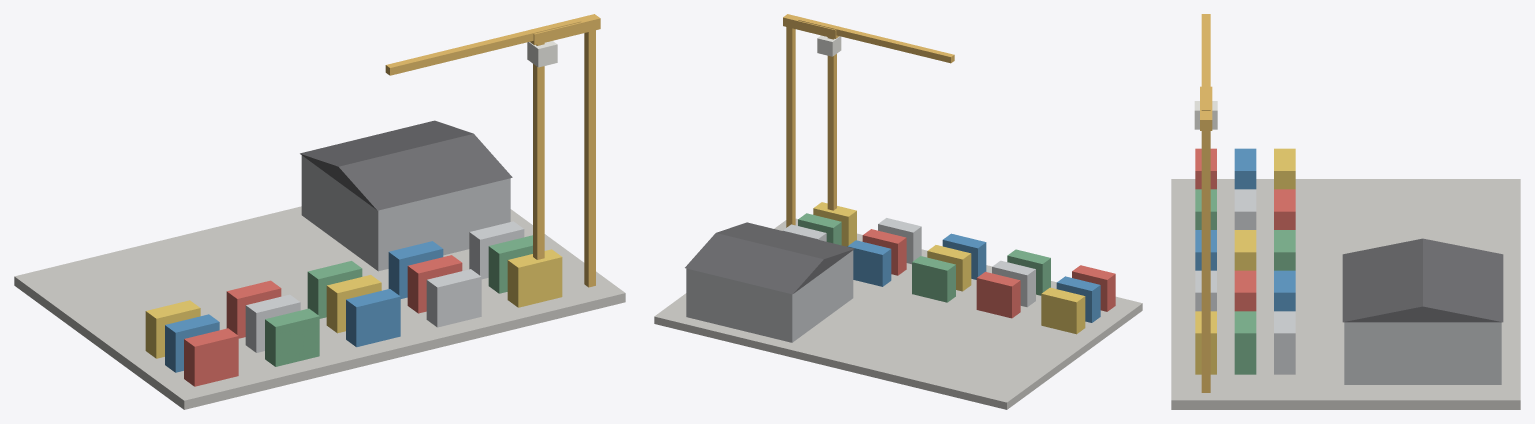
Rendered from port.glb.
3 renders of one model, left to right at view 1: azimuth 30°, elevation 25°; view 2: azimuth 150°, elevation 25°; view 3: azimuth 270°, elevation 25°, orthographic. The views are drawn at different scales.
Visible parts, largest first — view 1: Cube, Cube.031, m, Cube.032, Cube.019, Cube.007, Cube.001, Cube.013, Cube.025, Cube.005, Cube.009, Cube.021 (+8 smaller); view 2: Cube, Cube.031, m, Cube.032, Cube.005, Cube.011, Cube.017, Cube.023, Cube.021, Cube.003, Cube.015, Cube.001 (+6 smaller); view 3: Cube, m, Cube.031, Cube.032, Cube.027, Cube.029, Cube.003, Cube.021, Cube.009, Cube.015, Cube.005, Cube.023 (+8 smaller).
Boxes of the visible parts, x1,y1,x2,y2 form: Cube: [14, 206, 625, 409]; Cube.031: [301, 155, 510, 271]; m: [300, 120, 512, 210]; Cube.032: [385, 14, 600, 287]; Cube.019: [426, 269, 481, 327]; Cube.007: [265, 308, 319, 366]; Cube.001: [184, 328, 238, 386]; Cube.013: [346, 289, 400, 347]; Cube.025: [507, 249, 562, 307]; Cube.005: [145, 300, 200, 358]; Cube.009: [245, 294, 300, 352]; Cube.021: [407, 255, 462, 313]; Cube: [654, 218, 1142, 409]; Cube.031: [686, 250, 853, 342]; m: [685, 222, 854, 294]; Cube.032: [783, 14, 954, 227]; Cube.005: [1041, 287, 1085, 334]; Cube.011: [976, 271, 1020, 318]; Cube.017: [912, 256, 955, 302]; Cube.023: [847, 240, 891, 286]; Cube.021: [862, 229, 906, 275]; Cube.003: [1056, 276, 1100, 322]; Cube.015: [927, 245, 971, 291]; Cube.001: [1072, 265, 1115, 311]; Cube: [1171, 179, 1520, 409]; m: [1342, 238, 1503, 322]; Cube.031: [1344, 322, 1501, 384]; Cube.032: [1200, 14, 1212, 392]; Cube.027: [1234, 311, 1256, 374]; Cube.029: [1274, 311, 1295, 374]; Cube.003: [1234, 148, 1256, 189]; Cube.021: [1234, 270, 1256, 311]; Cube.009: [1234, 189, 1256, 229]; Cube.015: [1234, 230, 1256, 270]; Cube.005: [1274, 148, 1295, 189]; Cube.023: [1274, 270, 1295, 311].
Size of the model in its own units: 60 by 36 by 40.
